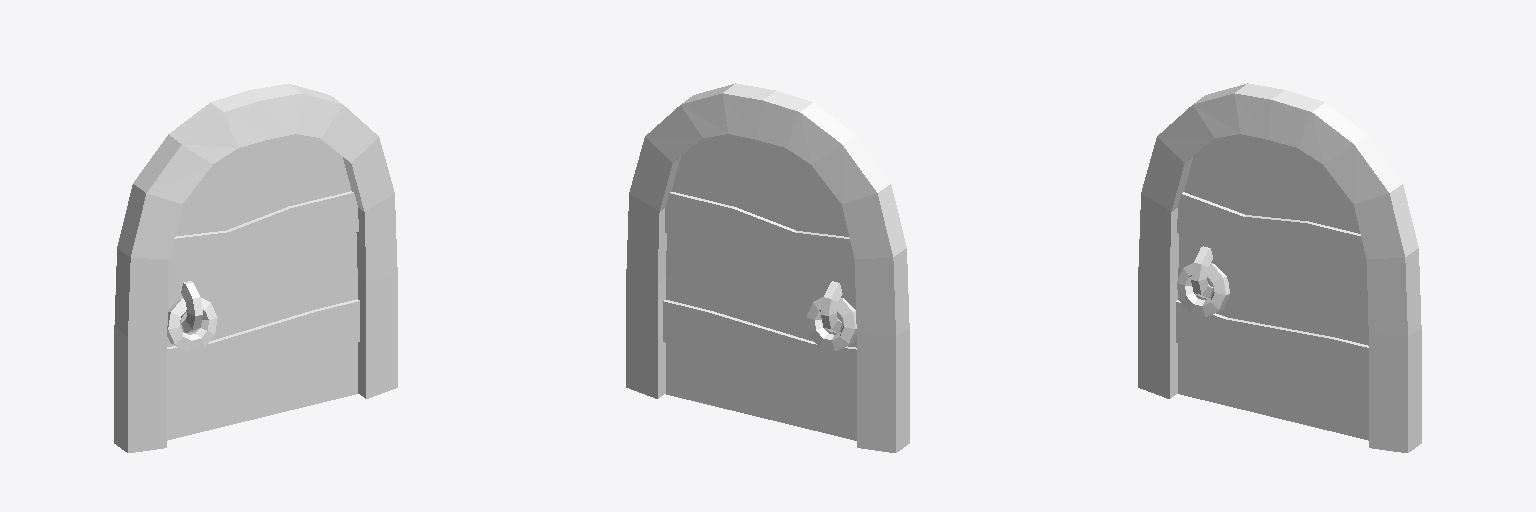
The model's file is door_def.obj.
3 renders of one model, left to right at view 1: azimuth 30°, elevation 25°; view 2: azimuth 150°, elevation 25°; view 3: azimuth 330°, elevation 25°, orthographic.
Visible parts, largest first — view 1: pTorus7; view 2: pTorus7; view 3: pTorus7.
Part boxes in pixels (x1,y1,x2,y2): pTorus7: (114,83,397,452); pTorus7: (626,83,909,452); pTorus7: (1138,83,1421,452).
Bounding box in the file's own units: 6.79 × 7.74 × 1.25.